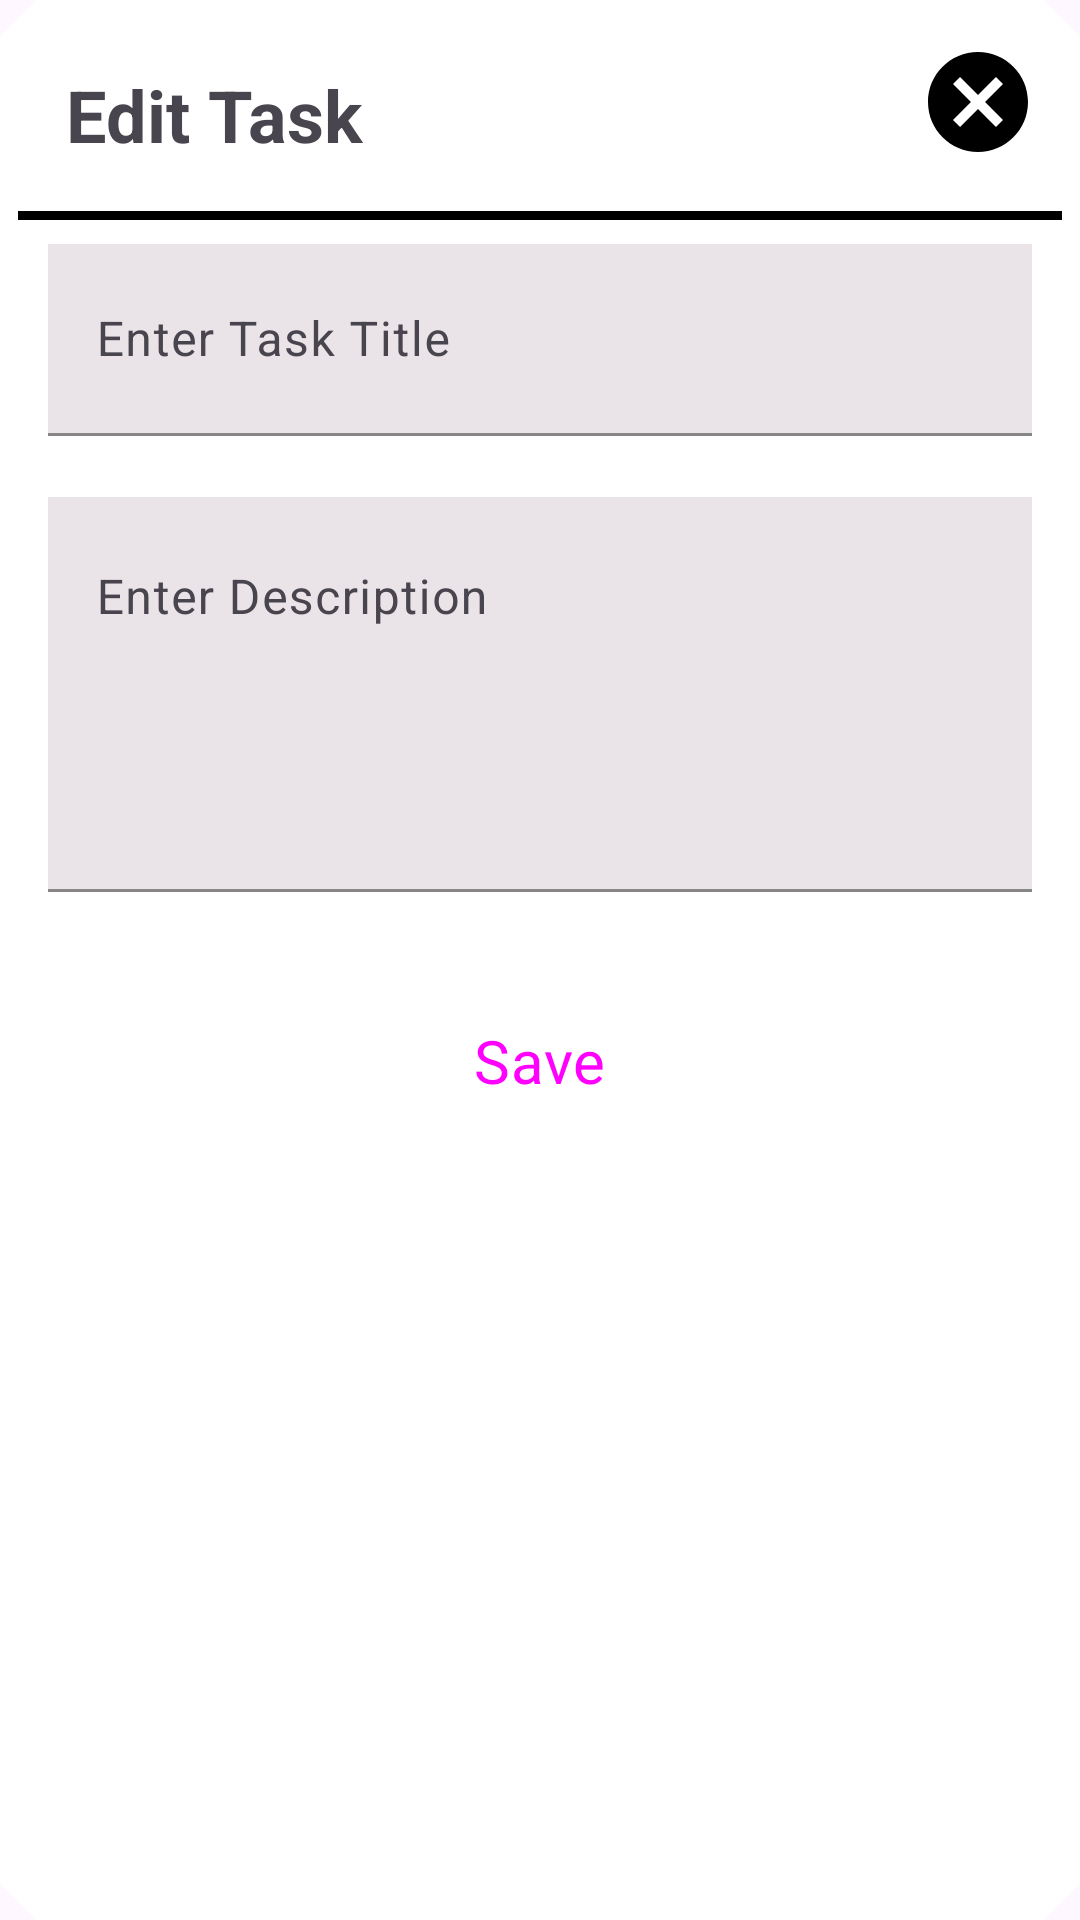

Locate icon controls on the screen. Image size 1080px×1920px, boxes as (x1, y1, x2, y2).
close: (928, 52, 1028, 152)
